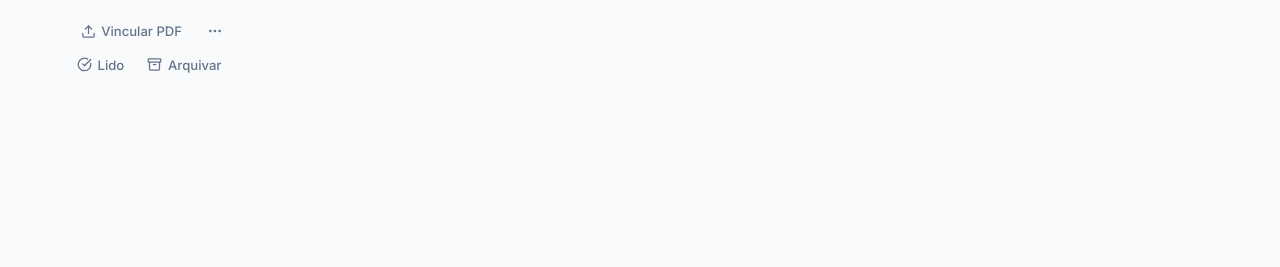
Test: ArticleRowActions menu › closes on Escape and on a click outside
Click the button named "Mais ações": (215, 31) [199,15,231,47]
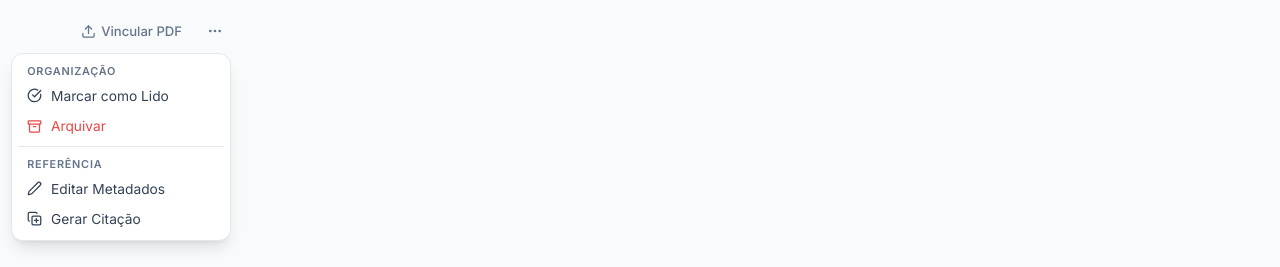
Press Escape in the menu, box [11,53,231,241]
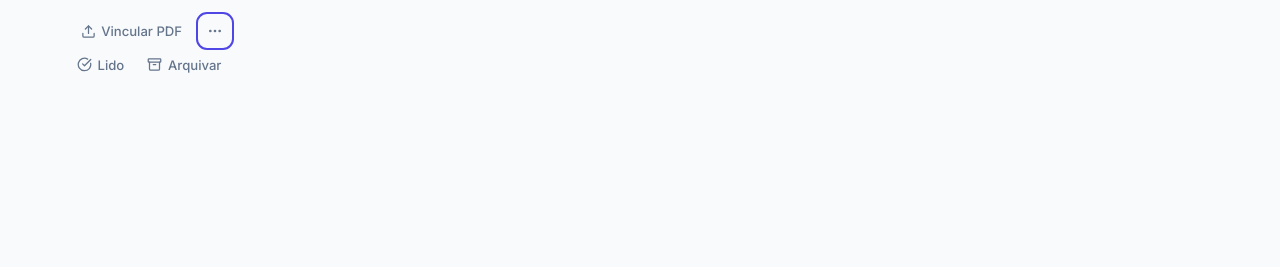
Now the menu is gone
Click the button named "Mais ações": (215, 31) [199,15,231,47]
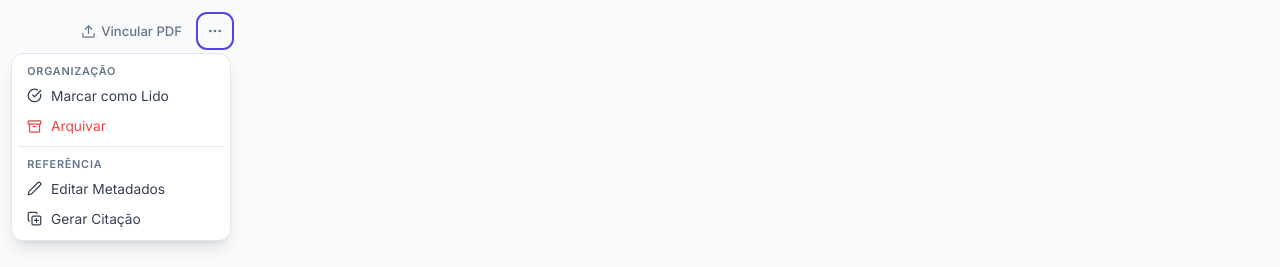
Press the mouse on the element that starts with "Vincular PDF": (640, 48) [0,12,1279,84]
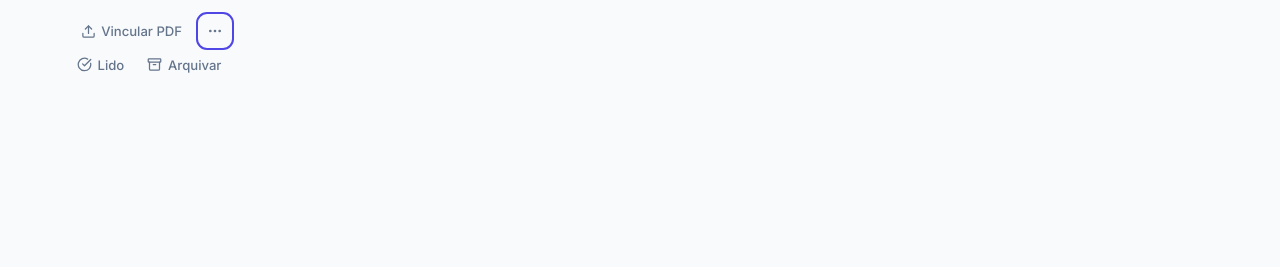
Now the menu is gone
